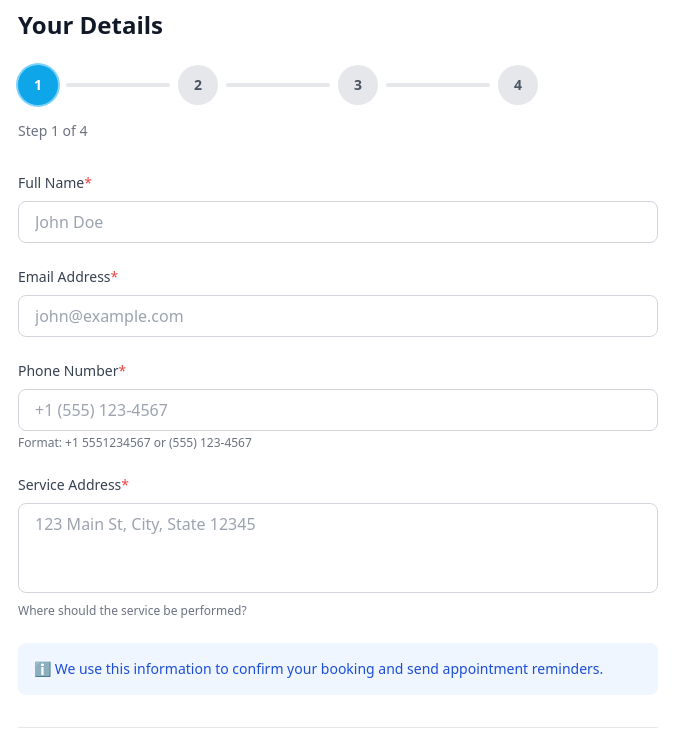
Test: BookingForm - Comprehensive Test Suite › Form Validation › should validate address length
Type "123" into the text box labelled "Service Address*" at (338, 548), box [18,503,658,593]
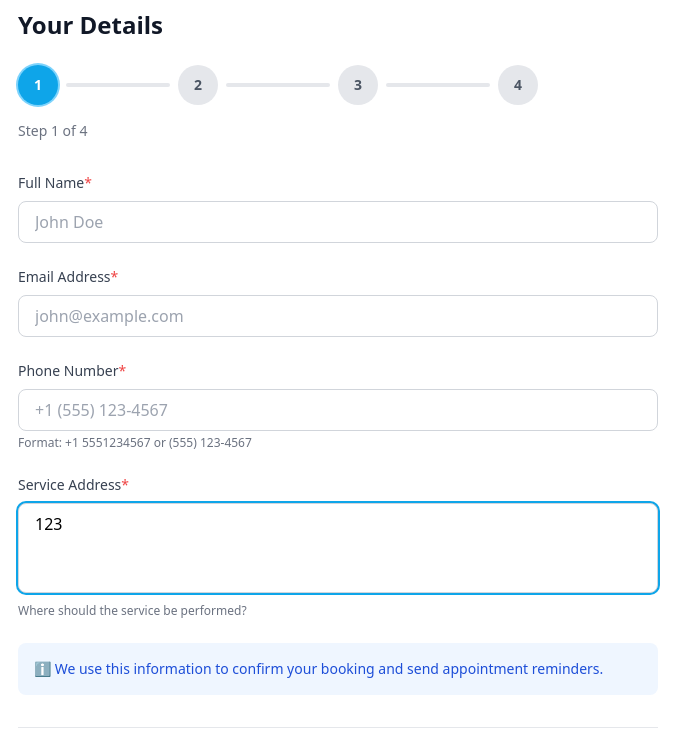
Leave the text box labelled "Service Address*", box [18,503,658,593]
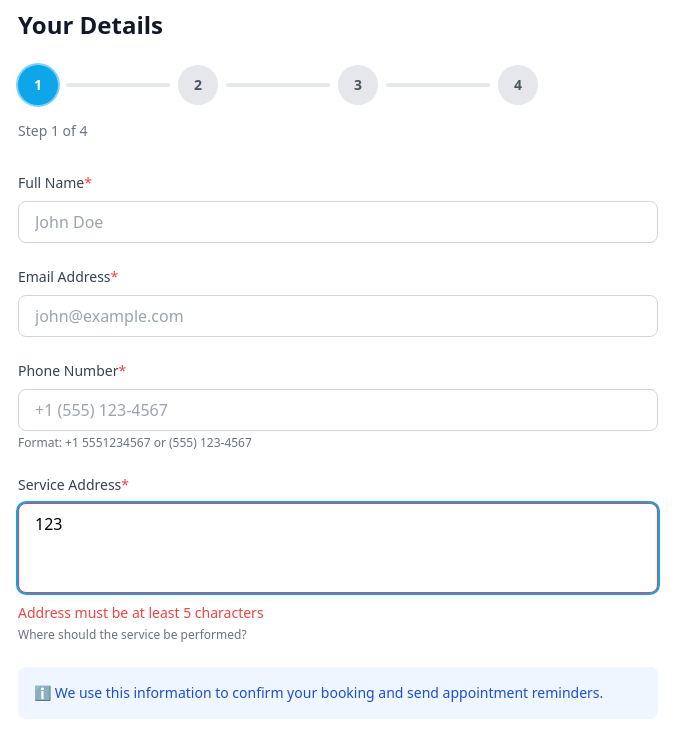
expect the text "Address must be at least 5 characters" is shown: met, box [18,603,264,622]
